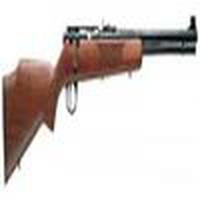gun: (2, 25, 199, 181)
